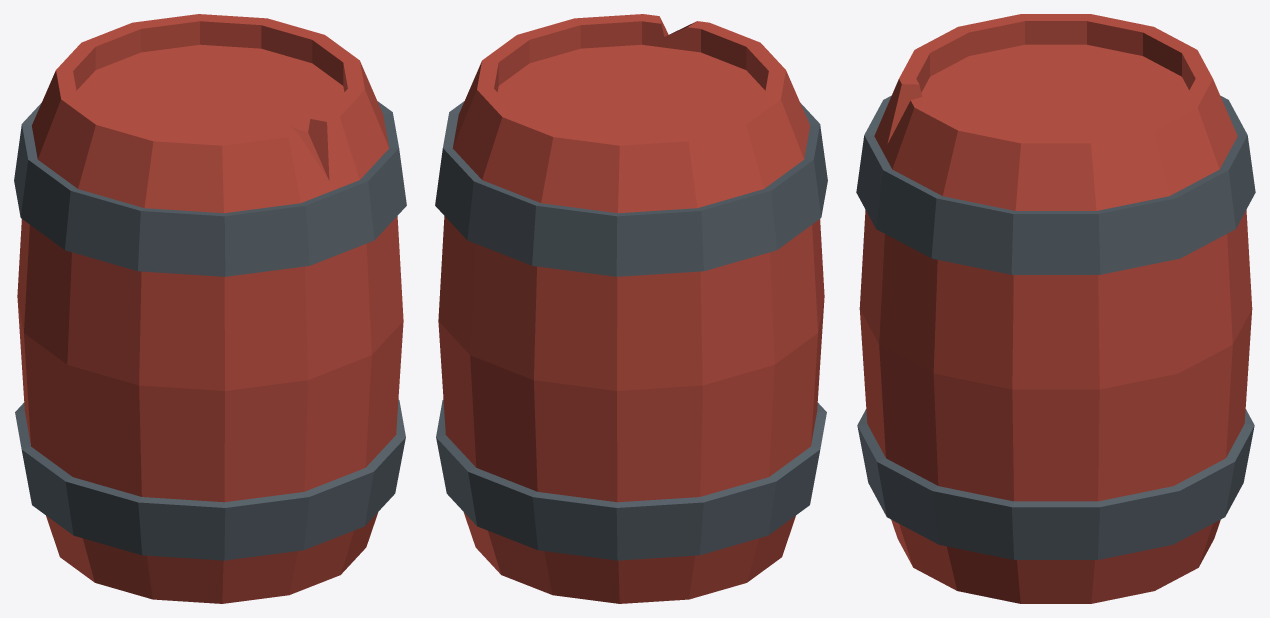
Rendered from Barrel_1_Red.fbx.
3 views of the same model, side by side, from view 1: azimuth 30°, elevation 25°; view 2: azimuth 150°, elevation 25°; view 3: azimuth 270°, elevation 25° (orthographic).
Visible parts, largest first — view 1: Barrel_1_Red_Part_1, Barrel_1_Red_Part_2; view 2: Barrel_1_Red_Part_1, Barrel_1_Red_Part_2; view 3: Barrel_1_Red_Part_1, Barrel_1_Red_Part_2.
Part boxes in pixels (<box>): Barrel_1_Red_Part_1: <box>17,14,403,603</box>; Barrel_1_Red_Part_2: <box>14,101,406,560</box>; Barrel_1_Red_Part_1: <box>438,14,824,603</box>; Barrel_1_Red_Part_2: <box>435,101,827,560</box>; Barrel_1_Red_Part_1: <box>859,14,1252,603</box>; Barrel_1_Red_Part_2: <box>856,95,1255,559</box>.
Bounding box in the file's own units: 115 × 150 × 118.
